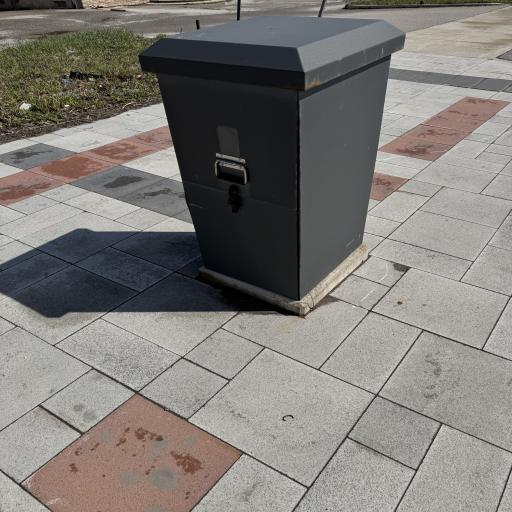Electrical Box: (138, 17, 404, 299)
